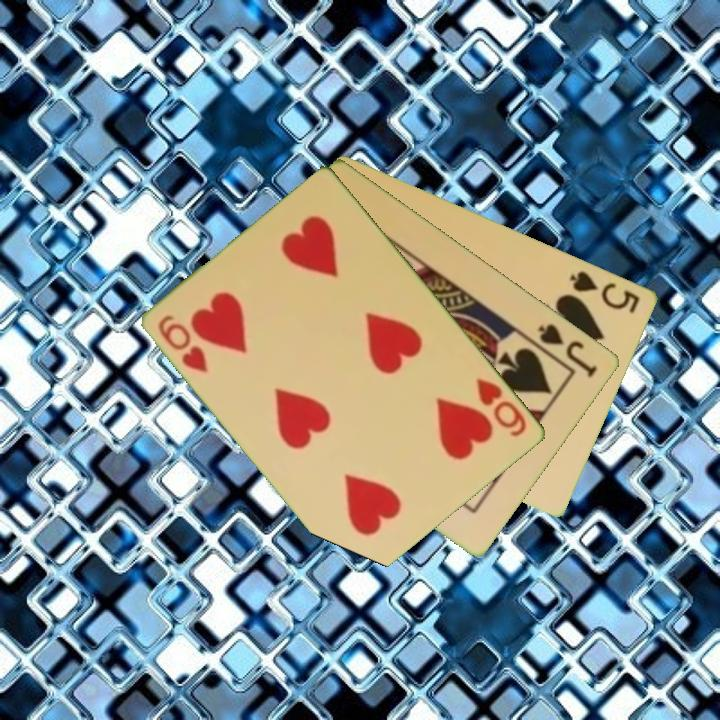5s: (567, 266, 643, 316)
6h: (473, 374, 531, 440), (155, 311, 212, 376)
Js: (535, 319, 601, 380)
